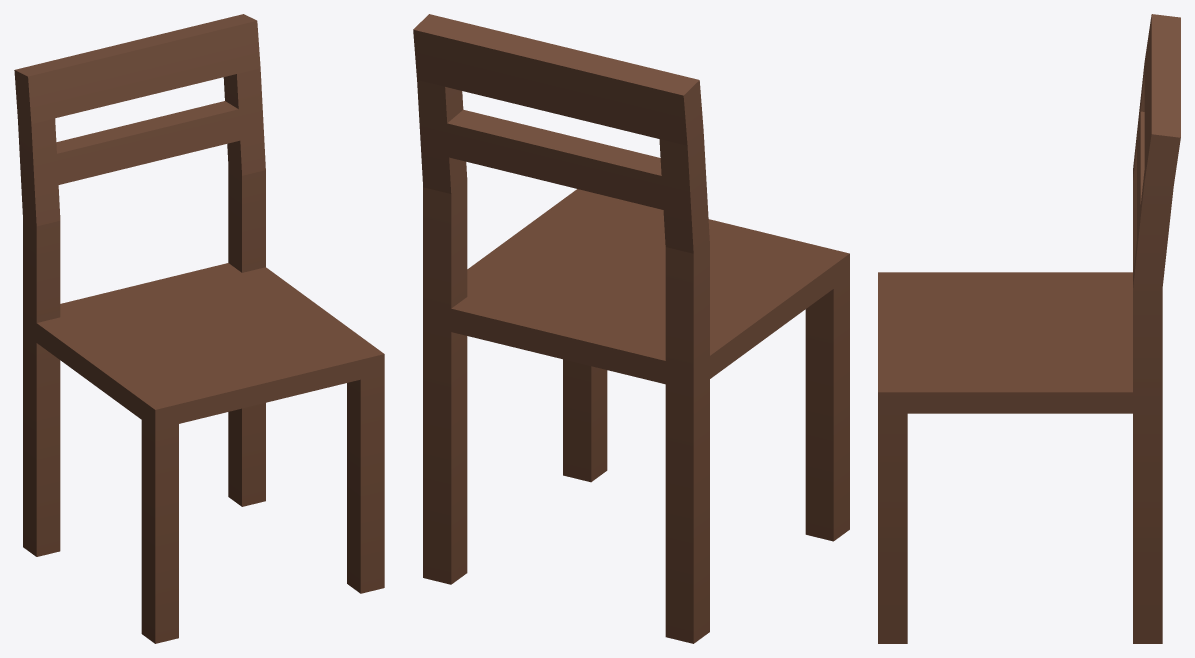
The model's file is Chair_03.fbx.
3 renders of one model, left to right at view 1: azimuth 30°, elevation 25°; view 2: azimuth 150°, elevation 25°; view 3: azimuth 270°, elevation 25°, orthographic. The views are drawn at different scales.
Parts seen in each view (by area): view 1: Chair_03; view 2: Chair_03; view 3: Chair_03.
Part boxes in pixels (x1,y1,x2,y2): Chair_03: [14, 14, 384, 643]; Chair_03: [413, 14, 849, 643]; Chair_03: [878, 14, 1180, 643].
Size of the model in its own units: 50.09 by 99 by 53.3.
